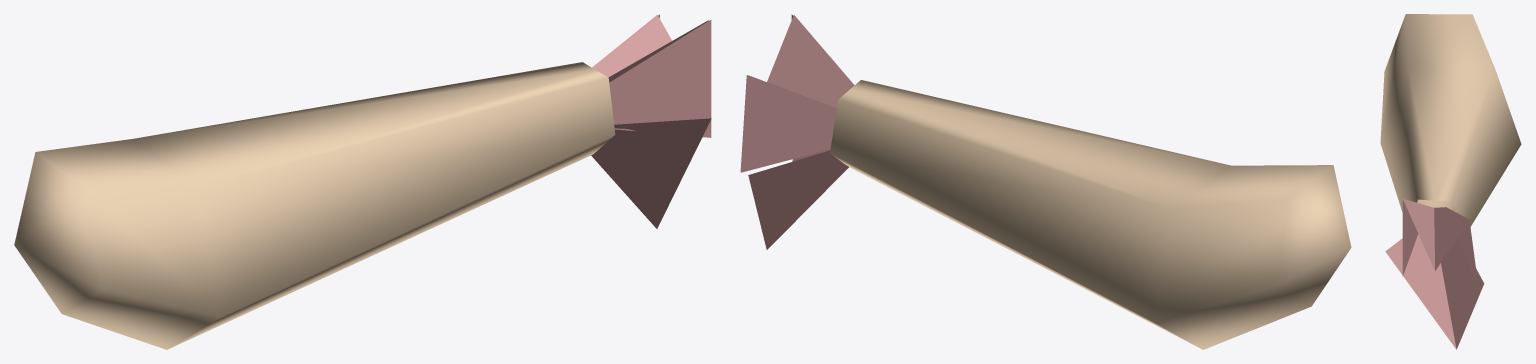
File: ebihurai.fbx
The picture shows the model from 3 angles, left to right: view 1: azimuth 30°, elevation 25°; view 2: azimuth 150°, elevation 25°; view 3: azimuth 270°, elevation 25°; orthographic projection. The views are drawn at different scales.
Visible parts, largest first — view 1: polySurface14; view 2: polySurface14; view 3: polySurface14.
Boxes of the visible parts, x1=… form: polySurface14: x1=14, y1=14, x2=711, y2=349; polySurface14: x1=740, y1=14, x2=1351, y2=349; polySurface14: x1=1380, y1=14, x2=1521, y2=349.
Size of the model in its own units: 3.54 by 1.17 by 0.9643.
